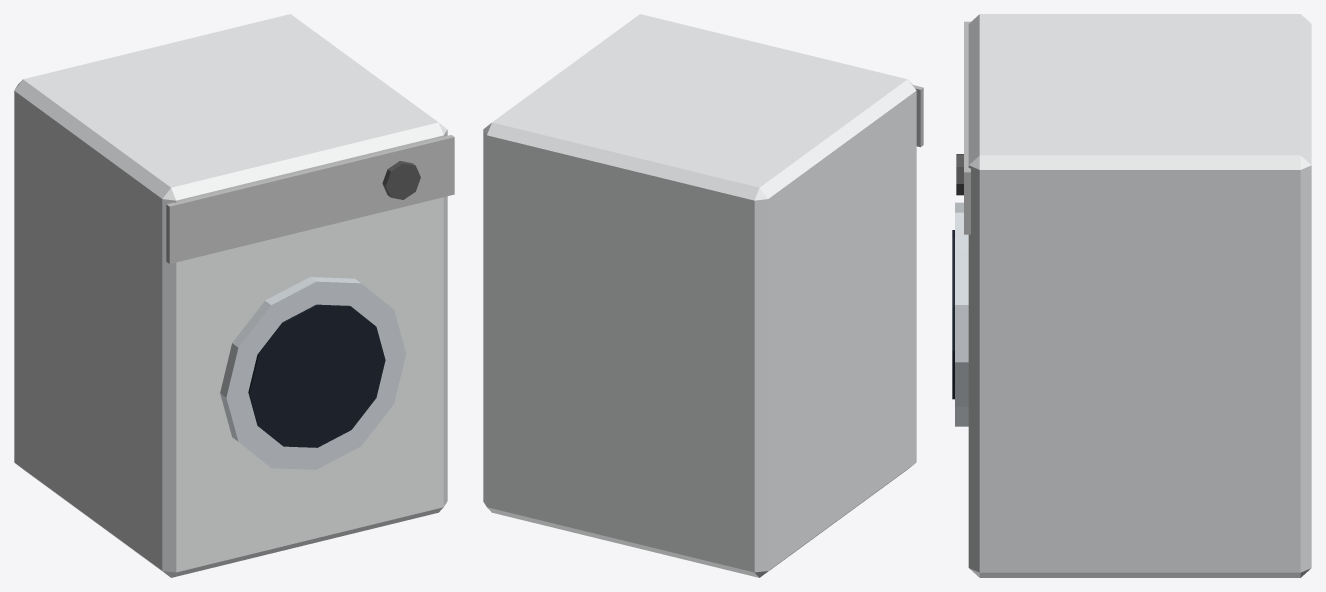
File: FUR_WashingMachine_Frac.fbx
3 renders of one model, left to right at view 1: azimuth 30°, elevation 25°; view 2: azimuth 150°, elevation 25°; view 3: azimuth 270°, elevation 25°, orthographic. The views are drawn at different scales.
Visible parts, largest first — view 1: FUR_WashingMachine_Frac_1, FUR_WashingMachine_Frac_4, FUR_WashingMachine_Frac_3, FUR_WashingMachine_Frac_2, FUR_WashingMachine_Frac_5; view 2: FUR_WashingMachine_Frac_4, FUR_WashingMachine_Frac_1, FUR_WashingMachine_Frac_2, FUR_WashingMachine_Frac_3; view 3: FUR_WashingMachine_Frac_1, FUR_WashingMachine_Frac_4.
Boxes of the visible parts, x1,y1,x2,y2 form: FUR_WashingMachine_Frac_1: (140, 14, 454, 525); FUR_WashingMachine_Frac_4: (14, 51, 299, 369); FUR_WashingMachine_Frac_3: (45, 321, 384, 577); FUR_WashingMachine_Frac_2: (14, 342, 142, 486); FUR_WashingMachine_Frac_5: (210, 258, 324, 337); FUR_WashingMachine_Frac_4: (591, 56, 923, 450); FUR_WashingMachine_Frac_1: (483, 14, 812, 520); FUR_WashingMachine_Frac_2: (523, 290, 896, 577); FUR_WashingMachine_Frac_3: (790, 239, 916, 555); FUR_WashingMachine_Frac_1: (952, 64, 1311, 577); FUR_WashingMachine_Frac_4: (964, 14, 1311, 86).
Size of the model in its own units: 2.6 by 3.4 by 2.62.
